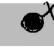not correct: (20, 1, 54, 34)
